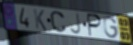4: (19, 7, 31, 30)
C: (49, 10, 68, 34)
G: (102, 16, 119, 40)
J: (70, 12, 83, 36)
K: (32, 8, 48, 32)
P: (87, 13, 103, 38)
